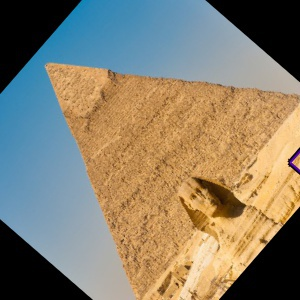triangle: (41, 56, 299, 300)
